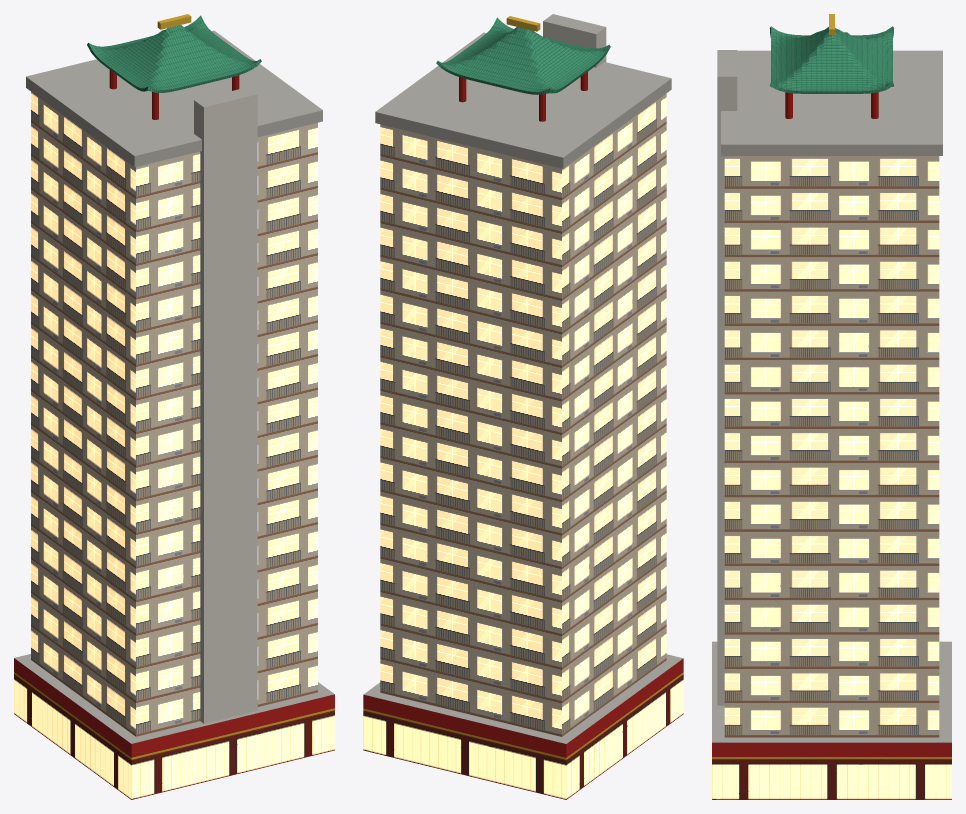
The model's file is chn_tower_b.glb.
3 views of the same model, side by side, from view 1: azimuth 30°, elevation 25°; view 2: azimuth 150°, elevation 25°; view 3: azimuth 270°, elevation 25° (orthographic). The views are drawn at different scales.
Parts seen in each view (by area): view 1: croof; view 2: croof; view 3: croof.
Part boxes in pixels (x1=…): croof: x1=14, y1=14, x2=334, y2=799; croof: x1=363, y1=14, x2=683, y2=799; croof: x1=712, y1=14, x2=951, y2=799.
Size of the model in its own units: 19 by 63.65 by 19.
7 materials, 3 textured.
